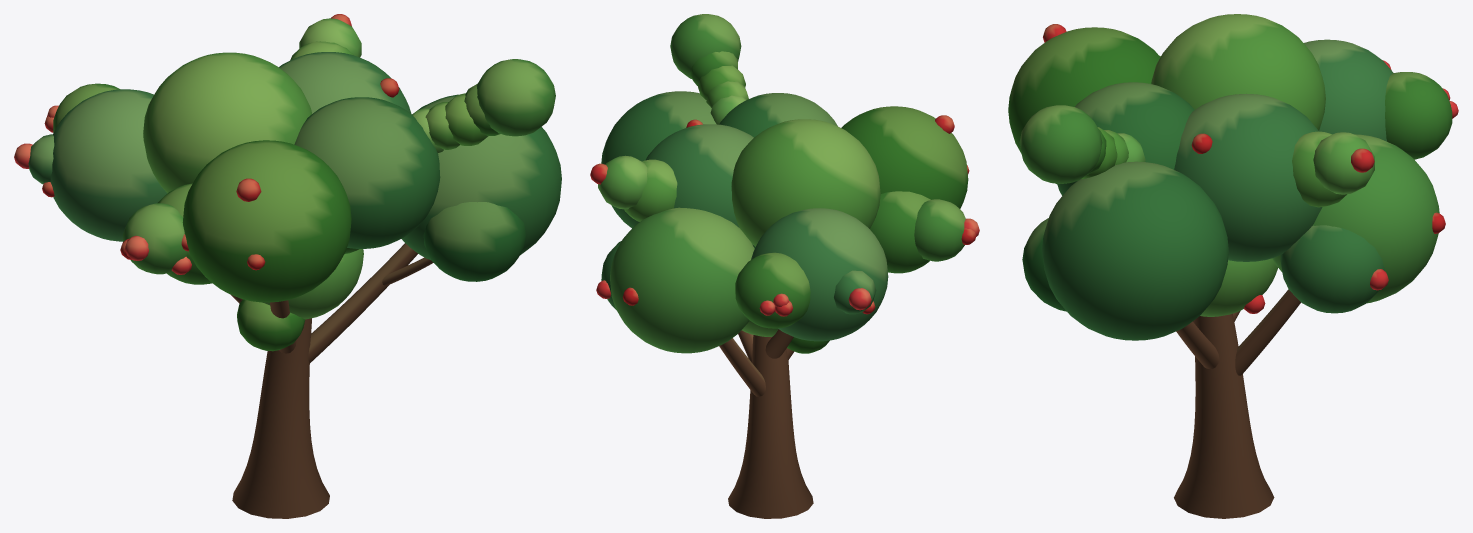
The model's file is orchard-tree.obj.
3 views of the same model, side by side, from view 1: azimuth 30°, elevation 25°; view 2: azimuth 150°, elevation 25°; view 3: azimuth 270°, elevation 25° (orthographic). The views are drawn at different scales.
Parts seen in each view (by area): view 1: tree; view 2: tree; view 3: tree.
Boxes of the visible parts, x1=… form: tree: x1=14, y1=14, x2=561, y2=518; tree: x1=590, y1=14, x2=979, y2=518; tree: x1=1008, y1=14, x2=1458, y2=518.
Size of the model in its own units: 379 by 393 by 344.
